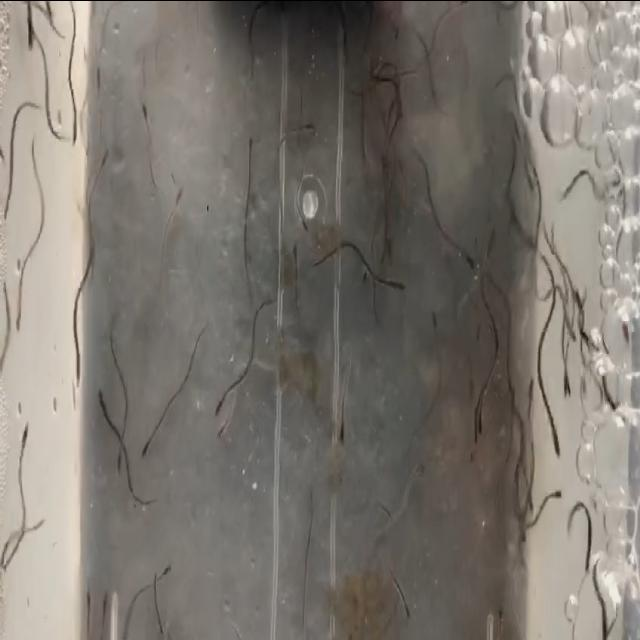active_glass_eel: (228, 134, 254, 186), (387, 263, 407, 313), (578, 273, 596, 325), (209, 408, 229, 454), (140, 423, 156, 480), (300, 92, 314, 152), (544, 412, 564, 454), (95, 389, 112, 434), (220, 374, 240, 412), (404, 468, 422, 510), (602, 359, 618, 405), (138, 0, 155, 43), (170, 183, 192, 216), (470, 418, 489, 453), (547, 481, 565, 517), (333, 408, 352, 442), (12, 290, 26, 336), (139, 93, 155, 133), (398, 590, 418, 620), (112, 442, 129, 477), (26, 20, 42, 56), (0, 162, 17, 194), (526, 387, 538, 432), (74, 353, 86, 395), (430, 310, 442, 350), (579, 558, 594, 590), (562, 350, 578, 380), (468, 322, 478, 369), (156, 612, 174, 638), (462, 247, 482, 269), (6, 514, 16, 556), (84, 570, 92, 622), (66, 114, 80, 142), (0, 192, 9, 232), (389, 433, 399, 466), (288, 242, 302, 265), (382, 491, 392, 523), (17, 421, 28, 448), (162, 556, 172, 584), (308, 482, 316, 512), (0, 103, 8, 132)
